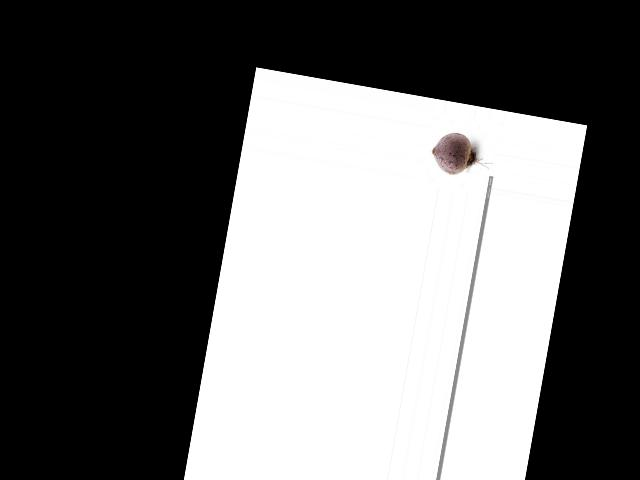beet: (428, 129, 497, 182)
